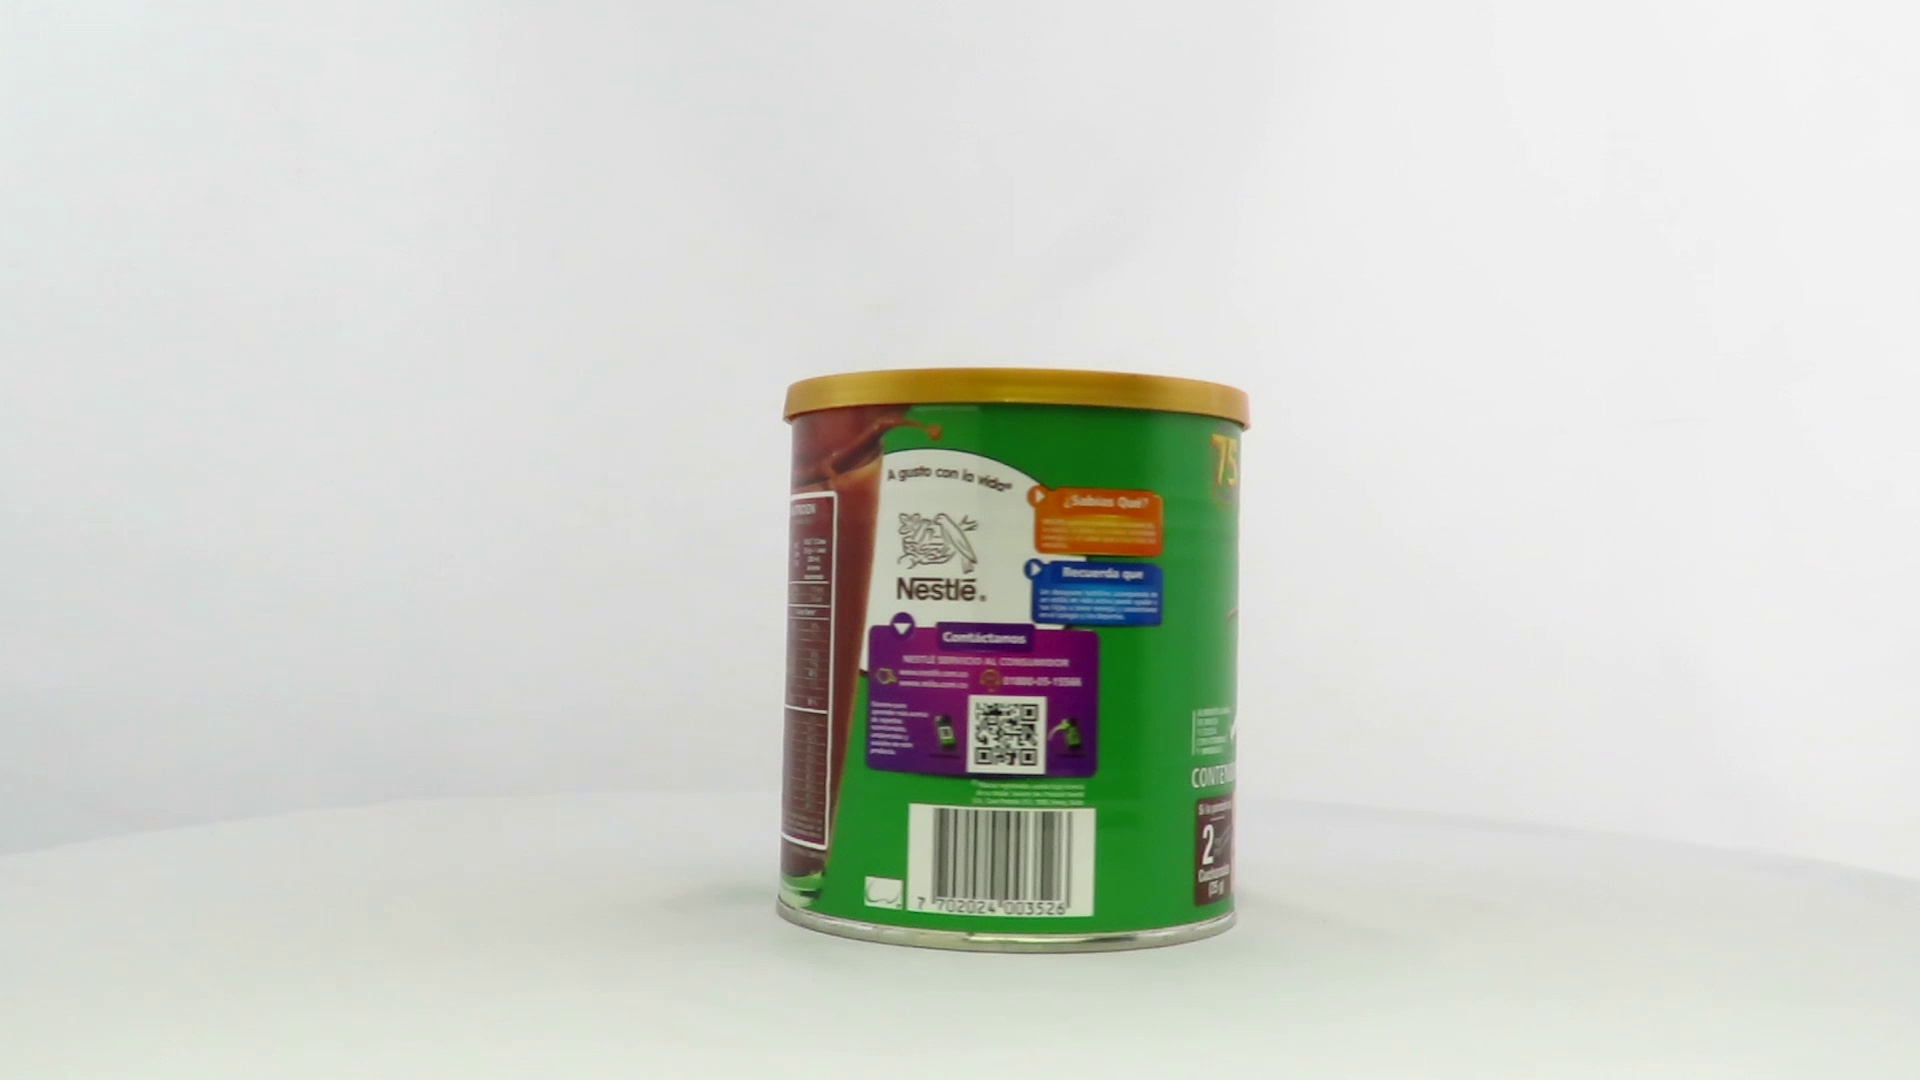COL0170203LAT40000: (770, 363, 1257, 961)
